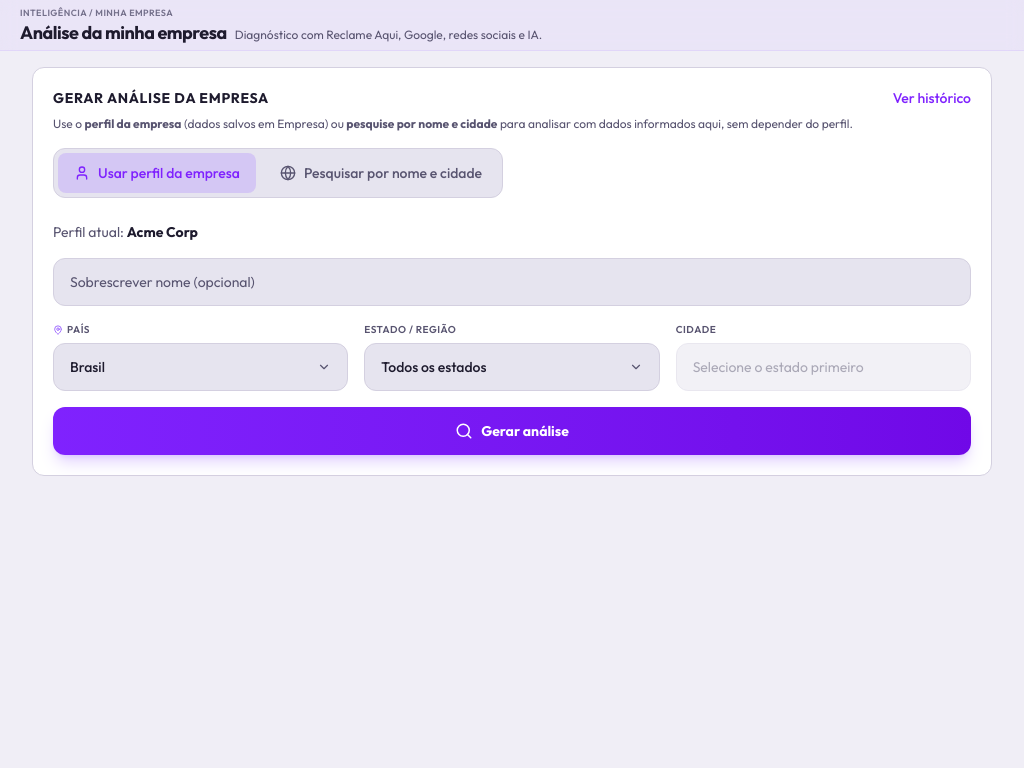
Test case: Intelligence modules › MinhaEmpresaPage › shows error banner when company analysis fails
Click the button "Gerar análise": (512, 431) [53, 407, 971, 455]
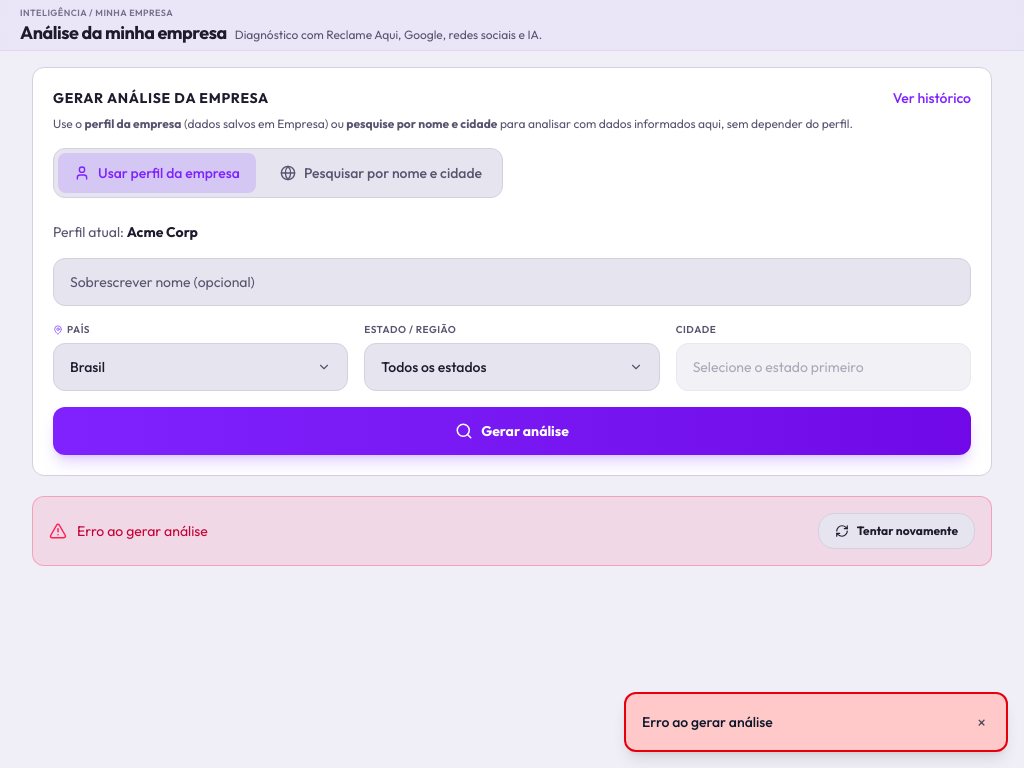
Expected: the text "Erro ao gerar análise" below "País" is shown, [77, 522, 208, 540]
